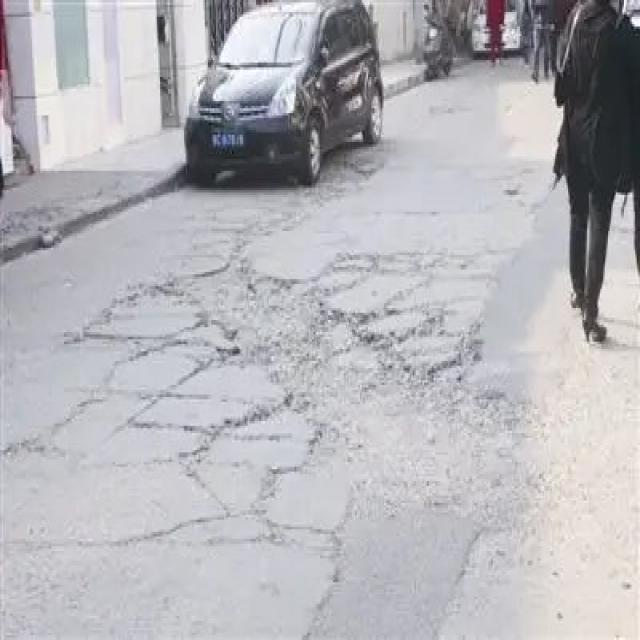Pothole: (162, 258, 528, 522)
